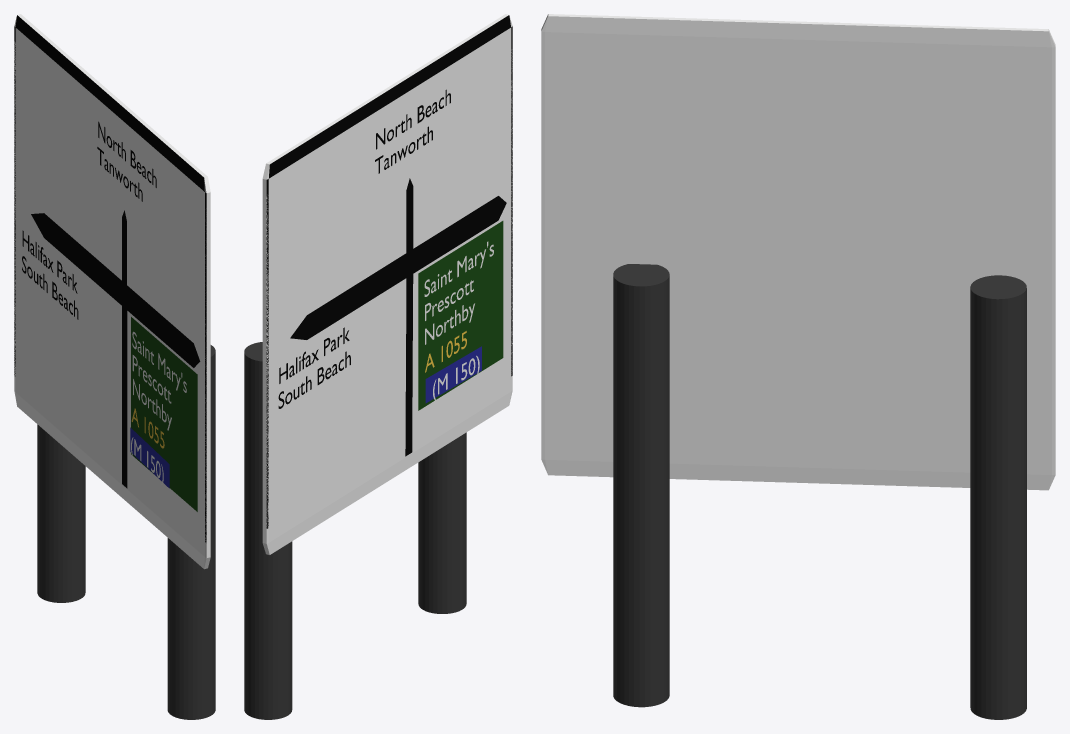
The model's file is HalifaxParkJunctionSign2.fbx.
3 views of the same model, side by side, from view 1: azimuth 30°, elevation 25°; view 2: azimuth 150°, elevation 25°; view 3: azimuth 270°, elevation 25° (orthographic). The views are drawn at different scales.
Visible parts, largest first — view 1: Cube.030, Cube.001, Cylinder.001, Plane, Cylinder.002, DirectionPlaneM, Text.004, Plane.001, Text.001, Text.005, Text.006; view 2: Cube.030, Cube.001, Cylinder.002, Plane, Cylinder.001, DirectionPlaneM, Plane.001, Text.004, Text.001, Text.006, Text.005; view 3: Cube.030, Cube.001, Cylinder.002, Cylinder.001.
Part boxes in pixels (x1,y1,x2,y2): Cube.030: [14, 14, 210, 543]; Cube.001: [14, 41, 210, 569]; Cylinder.001: [167, 345, 215, 719]; Plane: [131, 317, 197, 511]; Cylinder.002: [37, 424, 85, 602]; DirectionPlaneM: [31, 210, 200, 488]; Text.004: [132, 331, 186, 430]; Plane.001: [130, 427, 169, 488]; Text.001: [98, 121, 156, 187]; Text.005: [22, 230, 77, 293]; Text.006: [22, 256, 78, 319]; Cube.030: [262, 14, 512, 528]; Cube.001: [262, 43, 512, 554]; Cylinder.002: [244, 342, 292, 719]; Plane: [418, 221, 503, 410]; Cylinder.001: [418, 432, 466, 613]; DirectionPlaneM: [290, 178, 506, 456]; Plane.001: [425, 346, 481, 403]; Text.004: [424, 241, 493, 344]; Text.001: [376, 89, 450, 149]; Text.006: [278, 351, 350, 408]; Text.005: [279, 327, 349, 383]; Cube.030: [541, 14, 1055, 457]; Cube.001: [541, 50, 1055, 490]; Cylinder.002: [970, 275, 1026, 719]; Cylinder.001: [613, 264, 669, 707].
Bounding box in the file's own units: 115 × 824 × 577.
